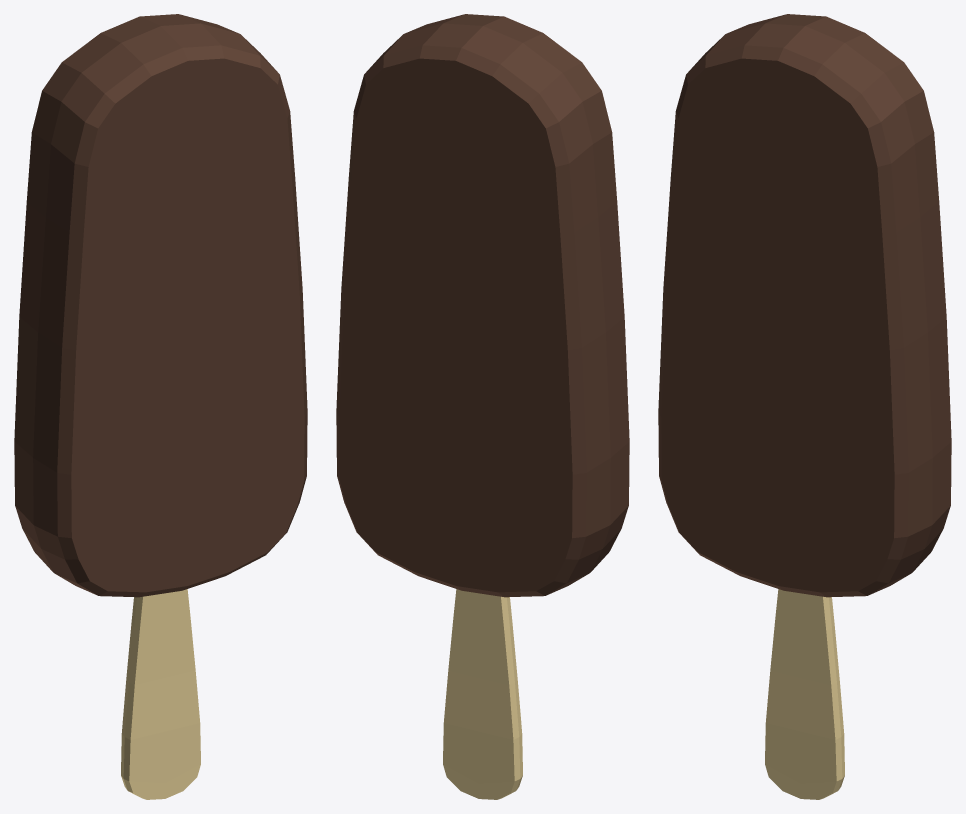
Rendered from Ice-Cream_Magnum_A.fbx.
3 renders of one model, left to right at view 1: azimuth 30°, elevation 25°; view 2: azimuth 150°, elevation 25°; view 3: azimuth 330°, elevation 25°, orthographic.
Visible parts, largest first — view 1: Ice-Cream_Magnum_A; view 2: Ice-Cream_Magnum_A; view 3: Ice-Cream_Magnum_A.
Boxes of the visible parts, bbox=[...] form: Ice-Cream_Magnum_A: bbox=[14, 14, 307, 799]; Ice-Cream_Magnum_A: bbox=[336, 14, 629, 799]; Ice-Cream_Magnum_A: bbox=[658, 14, 951, 799].
Bounding box in the file's own units: 4.5 × 12.96 × 1.64.
